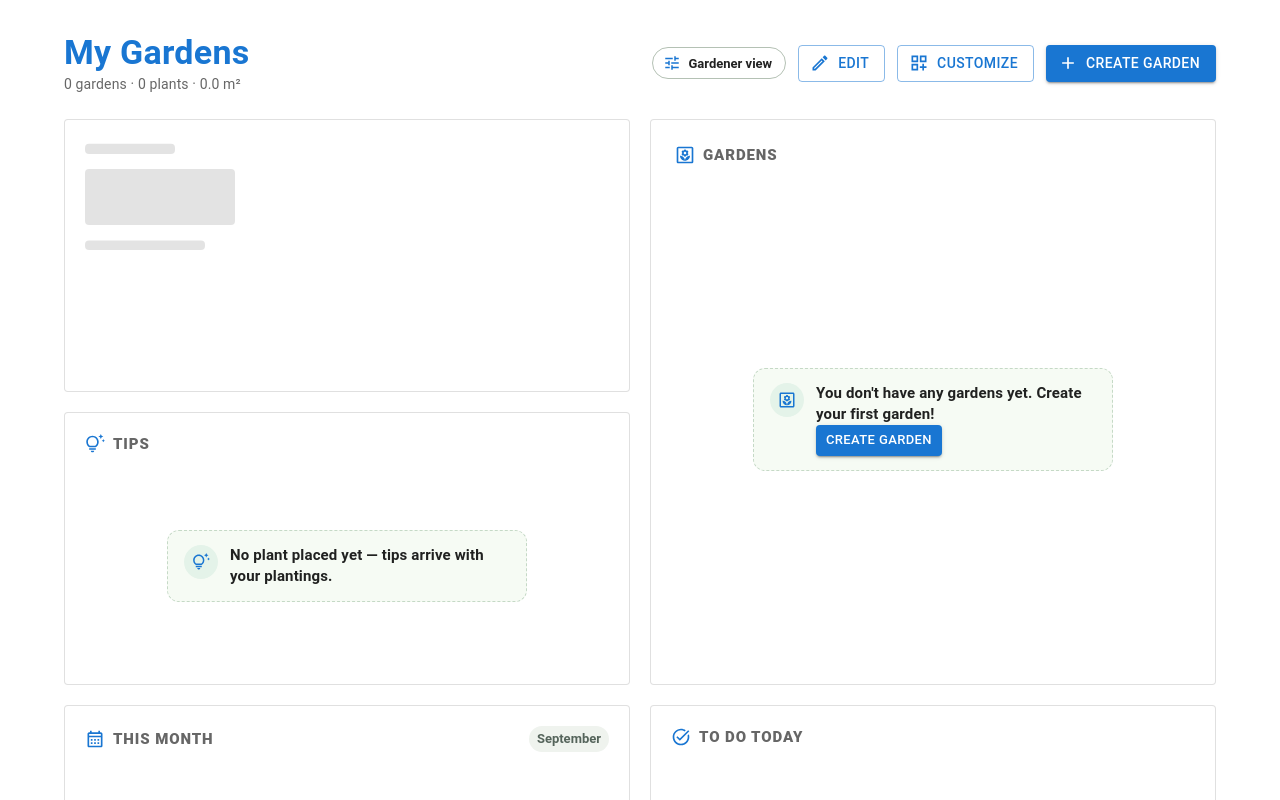
Test: GardensDashboard — Edit mode chrome (SMA-336) › while the aggregate loads, neither the gear panel nor the dialog claims that nothing is stored (round 2, D4)
The image size is (1280, 800).
Click the button "Edit" at (842, 63), box x1=798 y1=45 x2=885 y2=82
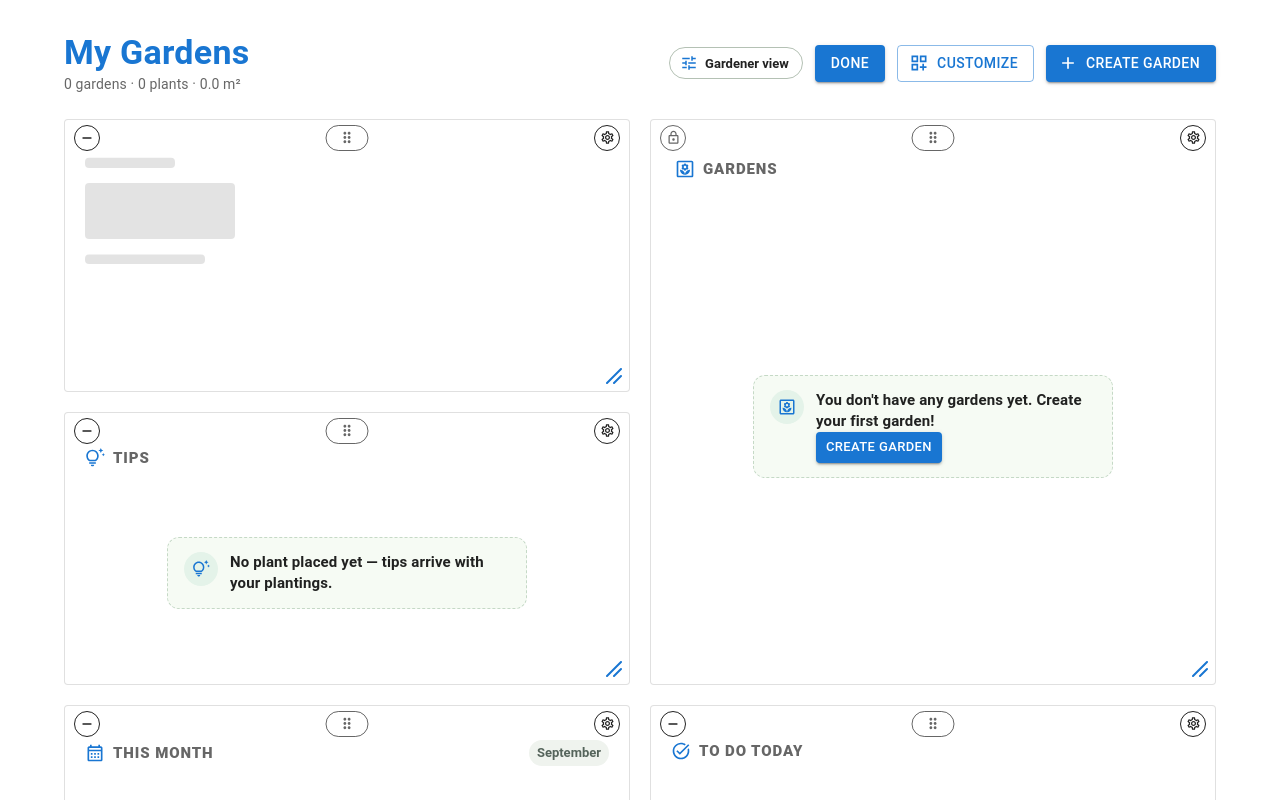
Click the button named "Weather options" at (607, 138), box x1=594 y1=125 x2=620 y2=151
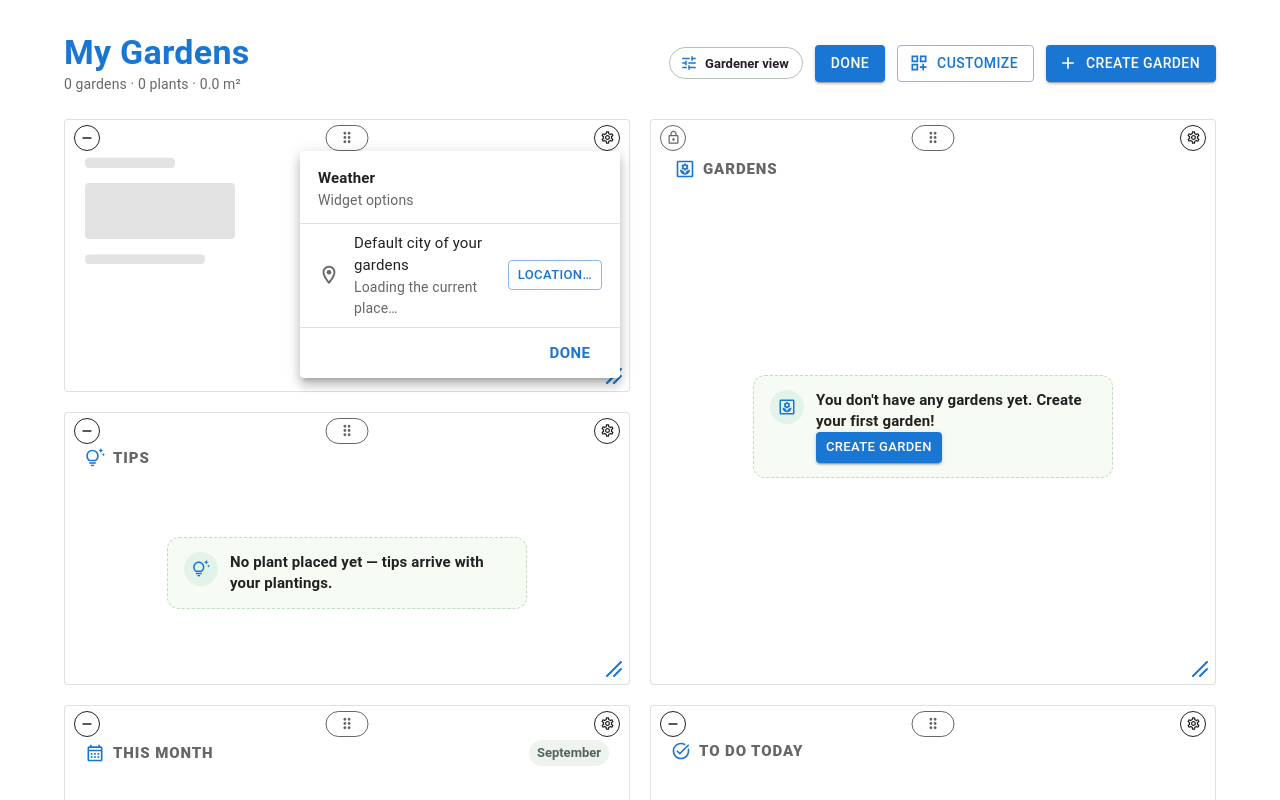
expect the text "Loading the current place…" is shown: met, box x1=354 y1=276 x2=494 y2=318
Click the button "Location…" at (555, 275), box x1=508 y1=260 x2=602 y2=290
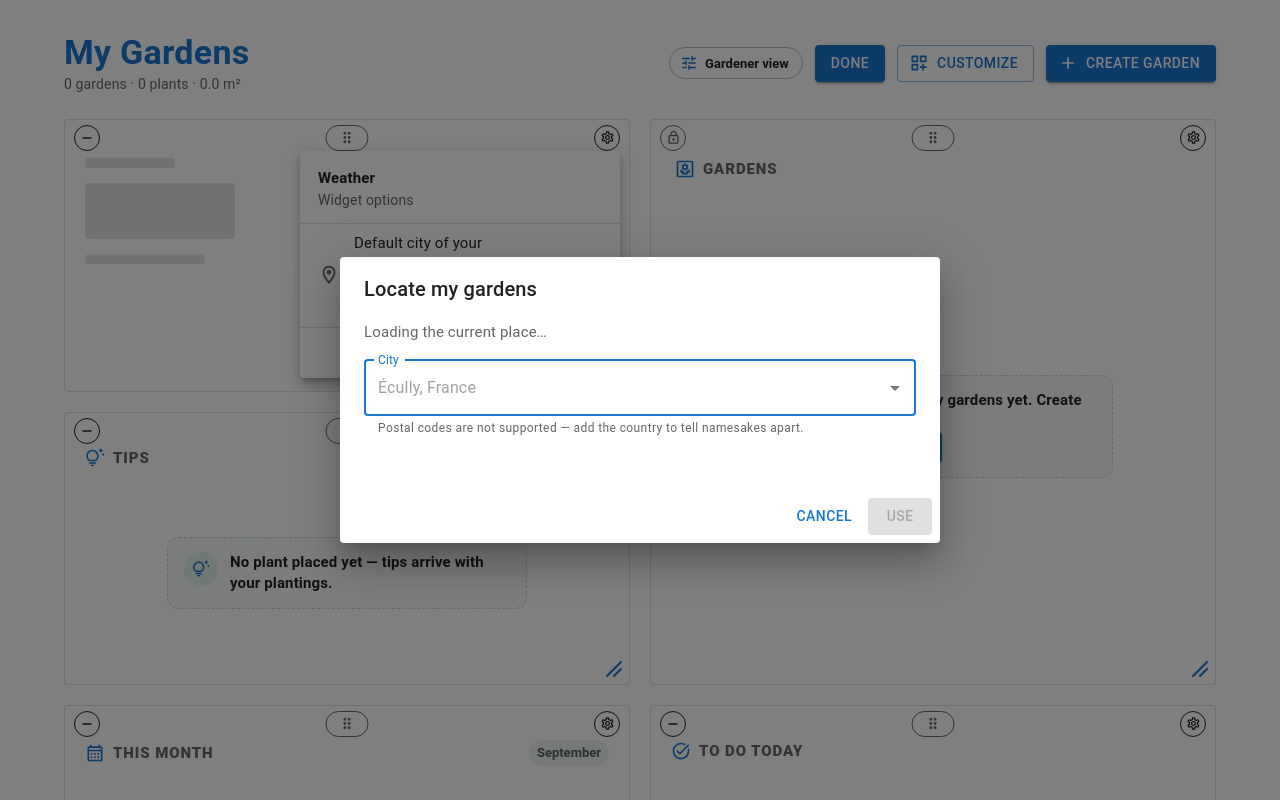
expect the text "Loading the current place…" is shown: met, box x1=364 y1=323 x2=547 y2=341
